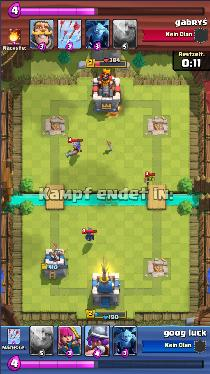enemy_goblin: (144, 174, 155, 185)
enemy_mini_pekka: (83, 228, 94, 243)
enemy_musketeer: (65, 142, 82, 157)
